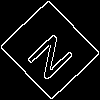N: (25, 25, 83, 83)
